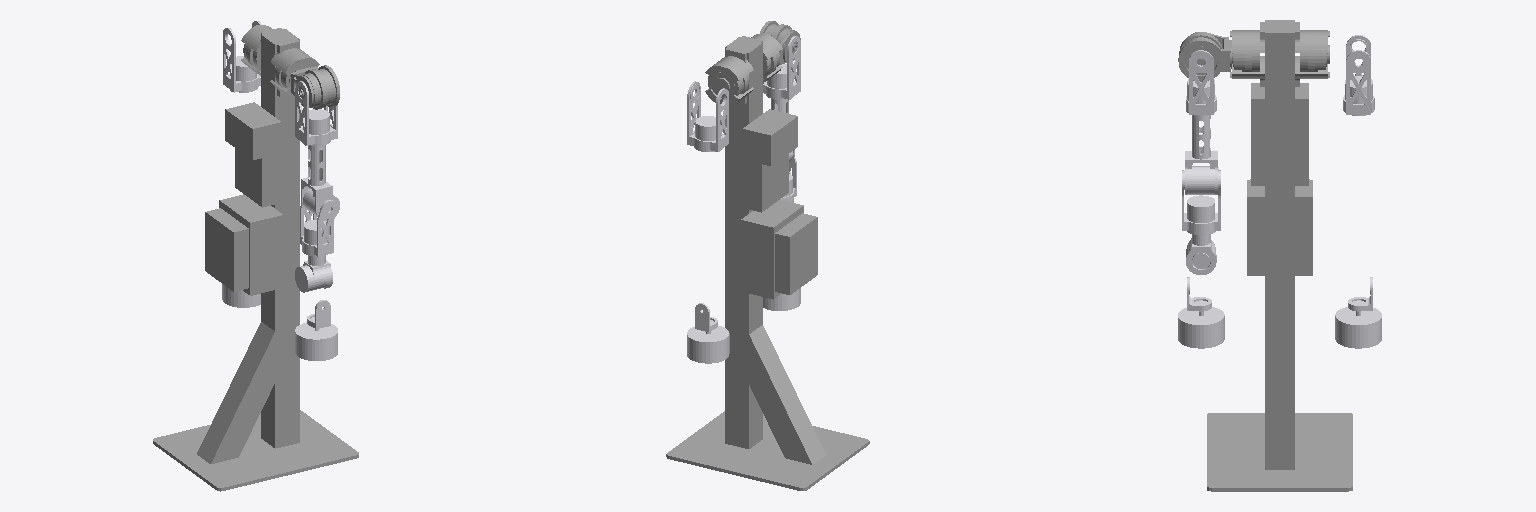
URDF robot description (JZ25034_7_URDF):
<?xml version="1.0" encoding="utf-8"?>
<!-- This URDF was automatically created by SolidWorks to URDF Exporter! Originally created by Stephen Brawner (brawner@gmail.com) 
     Commit Version: 1.6.0-4-g7f85cfe  Build Version: 1.6.7995.38578
     For more information, please see http://wiki.ros.org/sw_urdf_exporter -->
<robot
  name="JZ25034_7_URDF">
  <link
    name="base_link">
    <inertial>
      <origin
        xyz="-0.0408768754850503 -1.29415237536626E-16 0.456680749882226"
        rpy="0 0 0" />
      <mass
        value="12.5314307448736" />
      <inertia
        ixx="0.294142132352272"
        ixy="2.74096793500097E-19"
        ixz="-0.00164264470583179"
        iyy="0.301153645796892"
        iyz="-4.21664672751305E-19"
        izz="0.0525499015836404" />
    </inertial>
    <visual>
      <origin
        xyz="0 0 0"
        rpy="0 0 0" />
      <geometry>
        <mesh
          filename="package://JZ25034_7_URDF/meshes/base_link.STL" />
      </geometry>
      <material
        name="">
        <color
          rgba="0.698039215686274 0.698039215686274 0.698039215686274 1" />
      </material>
    </visual>
    <collision>
      <origin
        xyz="0 0 0"
        rpy="0 0 0" />
      <geometry>
        <mesh
          filename="package://JZ25034_7_URDF/meshes/base_link.STL" />
      </geometry>
    </collision>
  </link>
  <link
    name="right_shoulder_pitch_link">
    <inertial>
      <origin
        xyz="0.000169600583441315 0.00536118933013036 -1.06581410364015E-14"
        rpy="0 0 0" />
      <mass
        value="1.0729267006296" />
      <inertia
        ixx="0.000915509207829356"
        ixy="3.60481063056995E-05"
        ixz="1.01533032917366E-19"
        iyy="0.000626851067939033"
        iyz="-5.07343003299381E-20"
        izz="0.000739716956480902" />
    </inertial>
    <visual>
      <origin
        xyz="0 0 0"
        rpy="0 0 0" />
      <geometry>
        <mesh
          filename="package://JZ25034_7_URDF/meshes/right_shoulder_pitch_link.STL" />
      </geometry>
      <material
        name="">
        <color
          rgba="0.698039215686274 0.698039215686274 0.698039215686274 1" />
      </material>
    </visual>
    <collision>
      <origin
        xyz="0 0 0"
        rpy="0 0 0" />
      <geometry>
        <mesh
          filename="package://JZ25034_7_URDF/meshes/right_shoulder_pitch_link.STL" />
      </geometry>
    </collision>
  </link>
  <joint
    name="right_shoulder_pitch_joint"
    type="revolute">
    <origin
      xyz="0 -0.1555 0.89"
      rpy="0 0 0" />
    <parent
      link="base_link" />
    <child
      link="right_shoulder_pitch_link" />
    <axis
      xyz="0 -1 0" />
    <limit
      lower="-1.6"
      upper="3.2"
      effort="80"
      velocity="6.28" />
    <dynamics
      damping="0.1"
      friction="1" />
    <safety_controller
      soft_upper_limit="3.2"
      soft_lower_limit="-1.6"
      k_position="1"
      k_velocity="1" />
  </joint>
  <link
    name="right_shoulder_roll_link">
    <inertial>
      <origin
        xyz="0.000146672225955762 1.88737914186277E-15 -0.08200641434429"
        rpy="0 0 0" />
      <mass
        value="0.630665183818432" />
      <inertia
        ixx="0.000507247081072811"
        ixy="1.35111381692763E-20"
        ixz="-7.37276910667808E-07"
        iyy="0.000491222617596428"
        iyz="-1.09688936343023E-19"
        izz="0.000270335000834568" />
    </inertial>
    <visual>
      <origin
        xyz="0 0 0"
        rpy="0 0 0" />
      <geometry>
        <mesh
          filename="package://JZ25034_7_URDF/meshes/right_shoulder_roll_link.STL" />
      </geometry>
      <material
        name="">
        <color
          rgba="0.890196078431372 0.890196078431372 0.913725490196078 1" />
      </material>
    </visual>
    <collision>
      <origin
        xyz="0 0 0"
        rpy="0 0 0" />
      <geometry>
        <mesh
          filename="package://JZ25034_7_URDF/meshes/right_shoulder_roll_link.STL" />
      </geometry>
    </collision>
  </link>
  <joint
    name="right_shoulder_roll_joint"
    type="revolute">
    <origin
      xyz="0 0 0"
      rpy="0 0 0" />
    <parent
      link="right_shoulder_pitch_link" />
    <child
      link="right_shoulder_roll_link" />
    <axis
      xyz="1 0 0" />
    <limit
      lower="-3.2"
      upper="0.1"
      effort="80"
      velocity="6.28" />
    <dynamics
      damping="0.1"
      friction="1" />
    <safety_controller
      soft_upper_limit="0.1"
      soft_lower_limit="-3.2"
      k_position="1"
      k_velocity="1" />
  </joint>
  <link
    name="right_shoulder_yaw_link">
    <inertial>
      <origin
        xyz="0.00679261640238533 -0.000117253427666775 -0.129977555870596"
        rpy="0 0 0" />
      <mass
        value="0.614846988008381" />
      <inertia
        ixx="0.000494815083065845"
        ixy="7.45737293010214E-08"
        ixz="5.8941755414372E-06"
        iyy="0.00046676548644876"
        iyz="-1.17507913087479E-07"
        izz="0.000262360774865025" />
    </inertial>
    <visual>
      <origin
        xyz="0 0 0"
        rpy="0 0 0" />
      <geometry>
        <mesh
          filename="package://JZ25034_7_URDF/meshes/right_shoulder_yaw_link.STL" />
      </geometry>
      <material
        name="">
        <color
          rgba="0.890196078431372 0.890196078431372 0.913725490196078 1" />
      </material>
    </visual>
    <collision>
      <origin
        xyz="0 0 0"
        rpy="0 0 0" />
      <geometry>
        <mesh
          filename="package://JZ25034_7_URDF/meshes/right_shoulder_yaw_link.STL" />
      </geometry>
    </collision>
  </link>
  <joint
    name="right_shoulder_yaw_joint"
    type="revolute">
    <origin
      xyz="0 0 -0.12"
      rpy="0 0 0" />
    <parent
      link="right_shoulder_roll_link" />
    <child
      link="right_shoulder_yaw_link" />
    <axis
      xyz="0 0 -1" />
    <limit
      lower="-2.355"
      upper="2.355"
      effort="36"
      velocity="6.28" />
    <dynamics
      damping="0.1"
      friction="1" />
    <safety_controller
      soft_upper_limit="2.355"
      soft_lower_limit="-2.355"
      k_position="1"
      k_velocity="1" />
  </joint>
  <link
    name="right_elbow_pitch_link">
    <inertial>
      <origin
        xyz="-0.0090063110152557 -0.000240345521024171 -0.0743299812144339"
        rpy="0 0 0" />
      <mass
        value="0.589538608702173" />
      <inertia
        ixx="0.000387615745120338"
        ixy="-1.5118303743597E-08"
        ixz="-1.28925880934808E-05"
        iyy="0.000390308114953514"
        iyz="-9.51425709932357E-08"
        izz="0.000239628603656533" />
    </inertial>
    <visual>
      <origin
        xyz="0 0 0"
        rpy="0 0 0" />
      <geometry>
        <mesh
          filename="package://JZ25034_7_URDF/meshes/right_elbow_pitch_link.STL" />
      </geometry>
      <material
        name="">
        <color
          rgba="0.890196078431372 0.890196078431372 0.913725490196078 1" />
      </material>
    </visual>
    <collision>
      <origin
        xyz="0 0 0"
        rpy="0 0 0" />
      <geometry>
        <mesh
          filename="package://JZ25034_7_URDF/meshes/right_elbow_pitch_link.STL" />
      </geometry>
    </collision>
  </link>
  <joint
    name="right_elbow_pitch_joint"
    type="revolute">
    <origin
      xyz="0.0095 0 -0.15"
      rpy="0 0 0" />
    <parent
      link="right_shoulder_yaw_link" />
    <child
      link="right_elbow_pitch_link" />
    <axis
      xyz="0 -1 0" />
    <limit
      lower="-0.1"
      upper="2.355"
      effort="36"
      velocity="6.28" />
    <dynamics
      damping="0.1"
      friction="1" />
    <safety_controller
      soft_upper_limit="2.355"
      soft_lower_limit="-0.1"
      k_position="1"
      k_velocity="1" />
  </joint>
  <link
    name="right_wrist_yaw_link">
    <inertial>
      <origin
        xyz="-0.00628122336092774 -8.60558242640752E-06 -0.0552552877997034"
        rpy="0 0 0" />
      <mass
        value="0.491078451936018" />
      <inertia
        ixx="0.000237761162916227"
        ixy="-3.08197491694307E-08"
        ixz="1.64282072656749E-05"
        iyy="0.000260670012049319"
        iyz="1.5006087541753E-07"
        izz="0.000229172715705186" />
    </inertial>
    <visual>
      <origin
        xyz="0 0 0"
        rpy="0 0 0" />
      <geometry>
        <mesh
          filename="package://JZ25034_7_URDF/meshes/right_wrist_yaw_link.STL" />
      </geometry>
      <material
        name="">
        <color
          rgba="0.890196078431372 0.890196078431372 0.913725490196078 1" />
      </material>
    </visual>
    <collision>
      <origin
        xyz="0 0 0"
        rpy="0 0 0" />
      <geometry>
        <mesh
          filename="package://JZ25034_7_URDF/meshes/right_wrist_yaw_link.STL" />
      </geometry>
    </collision>
  </link>
  <joint
    name="right_wrist_yaw_joint"
    type="revolute">
    <origin
      xyz="-0.0095 0 -0.11"
      rpy="0 0 0" />
    <parent
      link="right_elbow_pitch_link" />
    <child
      link="right_wrist_yaw_link" />
    <axis
      xyz="3.0843E-05 0 -1" />
    <limit
      lower="-2.355"
      upper="2.355"
      effort="36"
      velocity="6.28" />
    <dynamics
      damping="0.1"
      friction="1" />
    <safety_controller
      soft_upper_limit="2.355"
      soft_lower_limit="-2.355"
      k_position="1"
      k_velocity="1" />
  </joint>
  <link
    name="right_wrist_roll_link">
    <inertial>
      <origin
        xyz="0.00459314320083518 0.00676484942055008 -0.05870265227866"
        rpy="0 0 0" />
      <mass
        value="0.489682386987798" />
      <inertia
        ixx="0.000286563654952449"
        ixy="-2.94113165252696E-06"
        ixz="-9.40007336764899E-06"
        iyy="0.000244899748701165"
        iyz="-6.07202990598762E-06"
        izz="0.000204397820215415" />
    </inertial>
    <visual>
      <origin
        xyz="0 0 0"
        rpy="0 0 0" />
      <geometry>
        <mesh
          filename="package://JZ25034_7_URDF/meshes/right_wrist_roll_link.STL" />
      </geometry>
      <material
        name="">
        <color
          rgba="0.898039215686275 0.917647058823529 0.929411764705882 1" />
      </material>
    </visual>
    <collision>
      <origin
        xyz="0 0 0"
        rpy="0 0 0" />
      <geometry>
        <mesh
          filename="package://JZ25034_7_URDF/meshes/right_wrist_roll_link.STL" />
      </geometry>
    </collision>
  </link>
  <joint
    name="right_wrist_roll_joint"
    type="revolute">
    <origin
      xyz="0 0 -0.060001"
      rpy="0 -3.0843E-05 0" />
    <parent
      link="right_wrist_yaw_link" />
    <child
      link="right_wrist_roll_link" />
    <axis
      xyz="1 0 0" />
    <limit
      lower="-1.6"
      upper="1.6"
      effort="36"
      velocity="6.28" />
    <dynamics
      damping="0.1"
      friction="1" />
    <safety_controller
      soft_upper_limit="1.6"
      soft_lower_limit="-1.6"
      k_position="1"
      k_velocity="1" />
  </joint>
  <link
    name="right_wrist_pitch_link">
    <inertial>
      <origin
        xyz="1.80773868097006E-11 -0.000313215503693398 -0.0870203848053975"
        rpy="0 0 0" />
      <mass
        value="3.05681401713237" />
      <inertia
        ixx="0.0024102646401229"
        ixy="-1.86643536453016E-13"
        ixz="1.12051561617999E-12"
        iyy="0.00240824438650099"
        iyz="5.32357391147055E-06"
        izz="0.00314603573887058" />
    </inertial>
    <visual>
      <origin
        xyz="0 0 0"
        rpy="0 0 0" />
      <geometry>
        <mesh
          filename="package://JZ25034_7_URDF/meshes/right_wrist_pitch_link.STL" />
      </geometry>
      <material
        name="">
        <color
          rgba="0.890196078431372 0.890196078431372 0.913725490196078 1" />
      </material>
    </visual>
    <collision>
      <origin
        xyz="0 0 0"
        rpy="0 0 0" />
      <geometry>
        <mesh
          filename="package://JZ25034_7_URDF/meshes/right_wrist_pitch_link.STL" />
      </geometry>
    </collision>
  </link>
  <joint
    name="right_wrist_pitch_joint"
    type="revolute">
    <origin
      xyz="0 0 -0.063999"
      rpy="0 3.0843E-05 0" />
    <parent
      link="right_wrist_roll_link" />
    <child
      link="right_wrist_pitch_link" />
    <axis
      xyz="0 -1 0" />
    <limit
      lower="-1.6"
      upper="1.6"
      effort="36"
      velocity="6.28" />
    <dynamics
      damping="0.1"
      friction="1" />
    <safety_controller
      soft_upper_limit="1.6"
      soft_lower_limit="-1.6"
      k_position="1"
      k_velocity="1" />
  </joint>
  <link
    name="left_shoulder_pitch_link">
    <inertial>
      <origin
        xyz="0.000169600583440906 -0.00536118933013802 -3.33066907387547E-16"
        rpy="0 0 0" />
      <mass
        value="1.0729267006296" />
      <inertia
        ixx="0.000915509207829356"
        ixy="-3.60481063056997E-05"
        ixz="-2.18254413383262E-20"
        iyy="0.000626851067939032"
        iyz="-2.99474223792558E-20"
        izz="0.000739716956480902" />
    </inertial>
    <visual>
      <origin
        xyz="0 0 0"
        rpy="0 0 0" />
      <geometry>
        <mesh
          filename="package://JZ25034_7_URDF/meshes/left_shoulder_pitch_link.STL" />
      </geometry>
      <material
        name="">
        <color
          rgba="0.898039215686275 0.917647058823529 0.929411764705882 1" />
      </material>
    </visual>
    <collision>
      <origin
        xyz="0 0 0"
        rpy="0 0 0" />
      <geometry>
        <mesh
          filename="package://JZ25034_7_URDF/meshes/left_shoulder_pitch_link.STL" />
      </geometry>
    </collision>
  </link>
  <joint
    name="left_shoulder_pitch_joint"
    type="revolute">
    <origin
      xyz="0 0.1555 0.89"
      rpy="0 0 0" />
    <parent
      link="base_link" />
    <child
      link="left_shoulder_pitch_link" />
    <axis
      xyz="0 1 0" />
    <limit
      lower="-3.2"
      upper="1.6"
      effort="80"
      velocity="6.28" />
    <dynamics
      damping="0.1"
      friction="1" />
    <safety_controller
      soft_upper_limit="1.6"
      soft_lower_limit="-3.2"
      k_position="1"
      k_velocity="1" />
  </joint>
  <link
    name="left_shoulder_roll_link">
    <inertial>
      <origin
        xyz="0.000146672225953867 1.0547118733939E-15 -0.0820064143442893"
        rpy="0 0 0" />
      <mass
        value="0.630665183818432" />
      <inertia
        ixx="0.000507247081072811"
        ixy="-2.96733323448762E-20"
        ixz="-7.37276910666266E-07"
        iyy="0.000491222617596428"
        iyz="1.81180118384495E-19"
        izz="0.000270335000834568" />
    </inertial>
    <visual>
      <origin
        xyz="0 0 0"
        rpy="0 0 0" />
      <geometry>
        <mesh
          filename="package://JZ25034_7_URDF/meshes/left_shoulder_roll_link.STL" />
      </geometry>
      <material
        name="">
        <color
          rgba="0.890196078431372 0.890196078431372 0.913725490196078 1" />
      </material>
    </visual>
    <collision>
      <origin
        xyz="0 0 0"
        rpy="0 0 0" />
      <geometry>
        <mesh
          filename="package://JZ25034_7_URDF/meshes/left_shoulder_roll_link.STL" />
      </geometry>
    </collision>
  </link>
  <joint
    name="left_shoulder_roll_joint"
    type="revolute">
    <origin
      xyz="0 0 0"
      rpy="0 0 0" />
    <parent
      link="left_shoulder_pitch_link" />
    <child
      link="left_shoulder_roll_link" />
    <axis
      xyz="1 0 0" />
    <limit
      lower="-0.1"
      upper="3.2"
      effort="80"
      velocity="6.28" />
    <dynamics
      damping="0.1"
      friction="1" />
    <safety_controller
      soft_upper_limit="3.2"
      soft_lower_limit="-0.1"
      k_position="1"
      k_velocity="1" />
  </joint>
  <link
    name="left_shoulder_yaw_link">
    <inertial>
      <origin
        xyz="0.00679261640238963 -0.000117253427678626 -0.129977555870601"
        rpy="0 0 0" />
      <mass
        value="0.614846988008381" />
      <inertia
        ixx="0.000494815083065846"
        ixy="7.45737293010189E-08"
        ixz="5.89417554143715E-06"
        iyy="0.000466765486448761"
        iyz="-1.1750791308745E-07"
        izz="0.000262360774865025" />
    </inertial>
    <visual>
      <origin
        xyz="0 0 0"
        rpy="0 0 0" />
      <geometry>
        <mesh
          filename="package://JZ25034_7_URDF/meshes/left_shoulder_yaw_link.STL" />
      </geometry>
      <material
        name="">
        <color
          rgba="0.890196078431372 0.890196078431372 0.913725490196078 1" />
      </material>
    </visual>
    <collision>
      <origin
        xyz="0 0 0"
        rpy="0 0 0" />
      <geometry>
        <mesh
          filename="package://JZ25034_7_URDF/meshes/left_shoulder_yaw_link.STL" />
      </geometry>
    </collision>
  </link>
  <joint
    name="left_shoulder_yaw_joint"
    type="revolute">
    <origin
      xyz="0 0 -0.120000000000001"
      rpy="0 0 0" />
    <parent
      link="left_shoulder_roll_link" />
    <child
      link="left_shoulder_yaw_link" />
    <axis
      xyz="0 0 -1" />
    <limit
      lower="-2.355"
      upper="2.355"
      effort="36"
      velocity="6.28" />
    <dynamics
      damping="0.1"
      friction="1" />
    <safety_controller
      soft_upper_limit="2.355"
      soft_lower_limit="-2.355"
      k_position="1"
      k_velocity="1" />
  </joint>
  <link
    name="left_elbow_pitch_link">
    <inertial>
      <origin
        xyz="-0.00900631101525189 -0.000240345521089952 -0.074329981214461"
        rpy="0 0 0" />
      <mass
        value="0.589538608702172" />
      <inertia
        ixx="0.000387615745120337"
        ixy="-1.51183037436887E-08"
        ixz="-1.28925880934807E-05"
        iyy="0.000390308114953513"
        iyz="-9.51425709934851E-08"
        izz="0.000239628603656532" />
    </inertial>
    <visual>
      <origin
        xyz="0 0 0"
        rpy="0 0 0" />
      <geometry>
        <mesh
          filename="package://JZ25034_7_URDF/meshes/left_elbow_pitch_link.STL" />
      </geometry>
      <material
        name="">
        <color
          rgba="0.890196078431372 0.890196078431372 0.913725490196078 1" />
      </material>
    </visual>
    <collision>
      <origin
        xyz="0 0 0"
        rpy="0 0 0" />
      <geometry>
        <mesh
          filename="package://JZ25034_7_URDF/meshes/left_elbow_pitch_link.STL" />
      </geometry>
    </collision>
  </link>
  <joint
    name="left_elbow_pitch_joint"
    type="revolute">
    <origin
      xyz="0.00950000000000007 0 -0.149999999999998"
      rpy="0 0 0" />
    <parent
      link="left_shoulder_yaw_link" />
    <child
      link="left_elbow_pitch_link" />
    <axis
      xyz="0 -1 0" />
    <limit
      lower="-0.1"
      upper="2.355"
      effort="36"
      velocity="6.28" />
    <dynamics
      damping="0.1"
      friction="1" />
    <safety_controller
      soft_upper_limit="2.355"
      soft_lower_limit="-0.1"
      k_position="1"
      k_velocity="1" />
  </joint>
  <link
    name="left_wrist_yaw_link">
    <inertial>
      <origin
        xyz="-0.00628122336092885 -8.60558242243847E-06 -0.0552552877997314"
        rpy="0 0 0" />
      <mass
        value="0.491078451936018" />
      <inertia
        ixx="0.000237761162916226"
        ixy="-3.08197491694139E-08"
        ixz="1.64282072656747E-05"
        iyy="0.000260670012049319"
        iyz="1.50060875417553E-07"
        izz="0.000229172715705186" />
    </inertial>
    <visual>
      <origin
        xyz="0 0 0"
        rpy="0 0 0" />
      <geometry>
        <mesh
          filename="package://JZ25034_7_URDF/meshes/left_wrist_yaw_link.STL" />
      </geometry>
      <material
        name="">
        <color
          rgba="0.890196078431372 0.890196078431372 0.913725490196078 1" />
      </material>
    </visual>
    <collision>
      <origin
        xyz="0 0 0"
        rpy="0 0 0" />
      <geometry>
        <mesh
          filename="package://JZ25034_7_URDF/meshes/left_wrist_yaw_link.STL" />
      </geometry>
    </collision>
  </link>
  <joint
    name="left_wrist_yaw_joint"
    type="revolute">
    <origin
      xyz="-0.00950000000000013 0 -0.11"
      rpy="0 0 0" />
    <parent
      link="left_elbow_pitch_link" />
    <child
      link="left_wrist_yaw_link" />
    <axis
      xyz="0 0 -1" />
    <limit
      lower="-2.355"
      upper="2.355"
      effort="36"
      velocity="6.28" />
    <safety_controller
      soft_upper_limit="2"
      soft_lower_limit="-2"
      k_position="1"
      k_velocity="1" />
  </joint>
  <link
    name="left_wrist_roll_link">
    <inertial>
      <origin
        xyz="0.0046466 -0.0067499 -0.05856"
        rpy="0 0 0" />
      <mass
        value="0.49085" />
      <inertia
        ixx="0.00028849"
        ixy="2.928E-06"
        ixz="-9.3933E-06"
        iyy="0.00024663"
        iyz="6.1605E-06"
        izz="0.00020455" />
    </inertial>
    <visual>
      <origin
        xyz="0 0 0"
        rpy="0 0 0" />
      <geometry>
        <mesh
          filename="package://JZ25034_7_URDF/meshes/left_wrist_roll_link.STL" />
      </geometry>
      <material
        name="">
        <color
          rgba="0.8902 0.8902 0.91373 1" />
      </material>
    </visual>
    <collision>
      <origin
        xyz="0 0 0"
        rpy="0 0 0" />
      <geometry>
        <mesh
          filename="package://JZ25034_7_URDF/meshes/left_wrist_roll_link.STL" />
      </geometry>
    </collision>
  </link>
  <joint
    name="left_wrist_roll_joint"
    type="revolute">
    <origin
      xyz="0 0 -0.0600000000000002"
      rpy="0 0 0" />
    <parent
      link="left_wrist_yaw_link" />
    <child
      link="left_wrist_roll_link" />
    <axis
      xyz="1 0 0" />
    <limit
      lower="-1.6"
      upper="1.6"
      effort="36"
      velocity="6.28" />
    <dynamics
      damping="0.1"
      friction="1" />
    <safety_controller
      soft_upper_limit="1.6"
      soft_lower_limit="-1.6"
      k_position="1"
      k_velocity="1" />
  </joint>
  <link
    name="left_wrist_pitch_link">
    <inertial>
      <origin
        xyz="-1.8073E-11 0.00031322 -0.08702"
        rpy="0 0 0" />
      <mass
        value="3.0568" />
      <inertia
        ixx="0.0024103"
        ixy="-1.8664E-13"
        ixz="-1.1205E-12"
        iyy="0.0024082"
        iyz="-5.3236E-06"
        izz="0.003146" />
    </inertial>
    <visual>
      <origin
        xyz="0 0 0"
        rpy="0 0 0" />
      <geometry>
        <mesh
          filename="package://JZ25034_7_URDF/meshes/left_wrist_pitch_link.STL" />
      </geometry>
      <material
        name="">
        <color
          rgba="0.8902 0.8902 0.91373 1" />
      </material>
    </visual>
    <collision>
      <origin
        xyz="0 0 0"
        rpy="0 0 0" />
      <geometry>
        <mesh
          filename="package://JZ25034_7_URDF/meshes/left_wrist_pitch_link.STL" />
      </geometry>
    </collision>
  </link>
  <joint
    name="left_wrist_pitch_joint"
    type="revolute">
    <origin
      xyz="0 0 -0.0640000000000028"
      rpy="0 0 0" />
    <parent
      link="left_wrist_roll_link" />
    <child
      link="left_wrist_pitch_link" />
    <axis
      xyz="0 1 0" />
    <limit
      lower="-1.6"
      upper="1.6"
      effort="36"
      velocity="6.28" />
    <dynamics
      damping="0.1"
      friction="1" />
    <safety_controller
      soft_upper_limit="1.6"
      soft_lower_limit="-1.6"
      k_position="1"
      k_velocity="1" />
  </joint>
</robot>

--- Render facts (derived) ---
3 views of the same robot in one strip: view 1: azimuth 30°, elevation 25°; view 2: azimuth 150°, elevation 25°; view 3: azimuth 270°, elevation 25° (orthographic).
Model JZ25034_7_URDF with 15 links and 14 joints (14 revolute), rooted at base_link, posed all joints at 0.
Visible links, largest first — view 1: base_link, right_wrist_pitch_link, right_shoulder_roll_link, right_elbow_pitch_link, right_shoulder_yaw_link, right_shoulder_pitch_link, left_shoulder_roll_link, right_wrist_yaw_link, left_wrist_pitch_link; view 2: base_link, left_shoulder_roll_link, left_wrist_pitch_link, right_shoulder_roll_link, right_shoulder_pitch_link, right_wrist_pitch_link; view 3: base_link, right_wrist_pitch_link, left_wrist_pitch_link, right_shoulder_yaw_link, left_shoulder_roll_link, right_shoulder_roll_link, right_shoulder_pitch_link, right_elbow_pitch_link, right_wrist_yaw_link.
Link boxes in pixels (x1,y1,x2,y2): base_link: (153,25,358,491); right_wrist_pitch_link: (295,300,337,360); right_shoulder_roll_link: (295,81,337,145); right_elbow_pitch_link: (300,200,337,256); right_shoulder_yaw_link: (301,145,339,220); right_shoulder_pitch_link: (291,65,339,109); left_shoulder_roll_link: (223,21,261,92); right_wrist_yaw_link: (295,255,332,292); left_wrist_pitch_link: (222,284,260,307); base_link: (666,33,869,490); left_shoulder_roll_link: (687,81,728,151); left_wrist_pitch_link: (687,303,729,363); right_shoulder_roll_link: (763,36,800,99); right_shoulder_pitch_link: (760,21,800,64); right_wrist_pitch_link: (763,288,800,310); base_link: (1207,20,1352,491); right_wrist_pitch_link: (1178,277,1224,348); left_wrist_pitch_link: (1335,277,1381,348); right_shoulder_yaw_link: (1185,115,1218,194); left_shoulder_roll_link: (1343,35,1374,115); right_shoulder_roll_link: (1186,50,1216,115); right_shoulder_pitch_link: (1178,32,1231,81); right_elbow_pitch_link: (1182,170,1220,235); right_wrist_yaw_link: (1186,234,1216,274).
Size in the robot's own frame: 0.35 by 0.4033 by 0.958 metres.
Meshes: 15 distinct files referenced, 9 mesh visuals loaded (9 binary STL); not drawn: 6 (reference not matched to a file when rendering).
